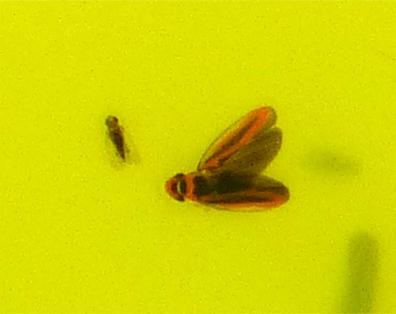Hemiptera: (165, 100, 296, 214), (100, 108, 131, 167)
